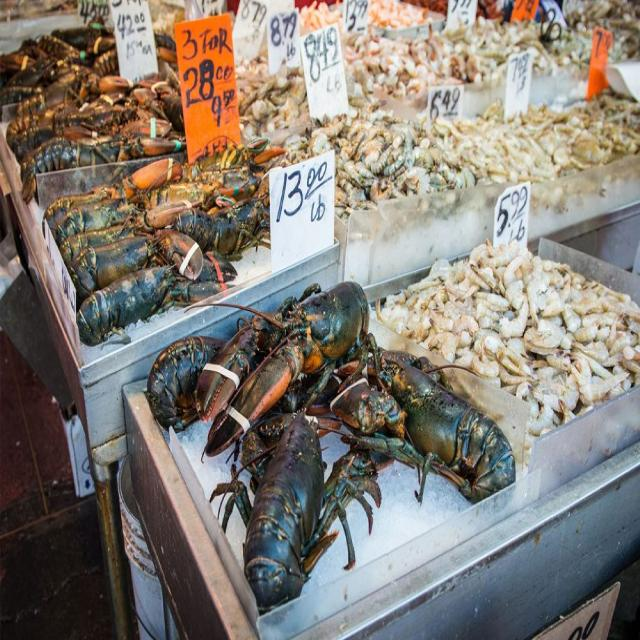Lobster: (210, 414, 381, 612), (346, 351, 515, 502), (231, 281, 369, 425), (76, 266, 175, 345), (205, 415, 245, 456)
